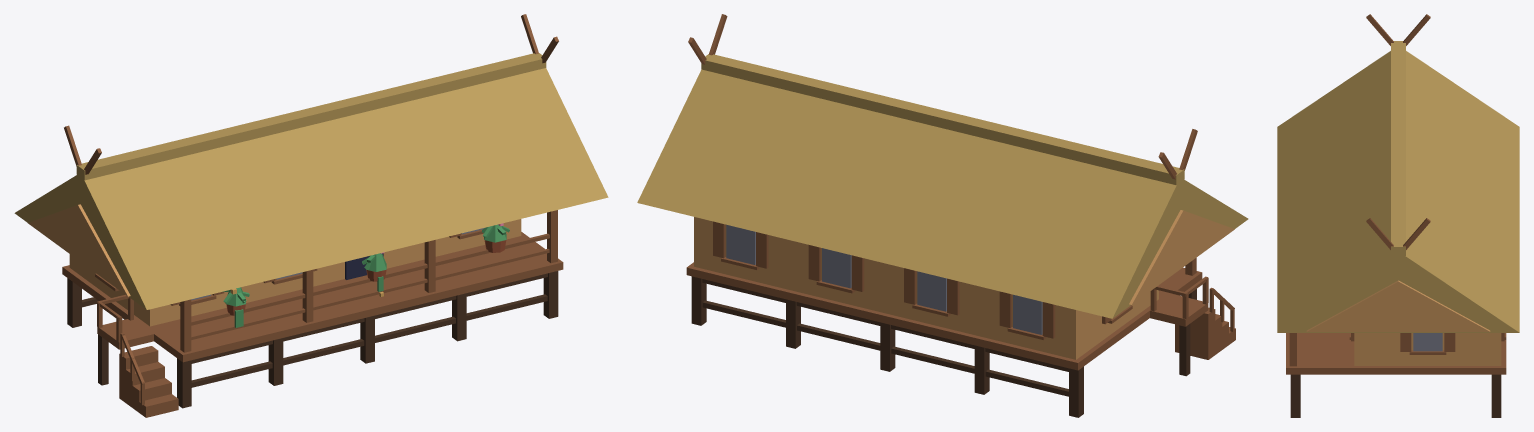
Rendered from house-2x1-1f-stilt-a.glb.
3 views of the same model, side by side, from view 1: azimuth 30°, elevation 25°; view 2: azimuth 150°, elevation 25°; view 3: azimuth 270°, elevation 25° (orthographic). The views are drawn at different scales.
Parts seen in each view (by area): view 1: house-2x1-1f-stilt-a; view 2: house-2x1-1f-stilt-a; view 3: house-2x1-1f-stilt-a.
Boxes of the visible parts, box(x1,y1,x2,y2) form: house-2x1-1f-stilt-a: box(14, 14, 608, 417); house-2x1-1f-stilt-a: box(637, 14, 1248, 417); house-2x1-1f-stilt-a: box(1277, 14, 1519, 417).
Bounding box in the file's own units: 2.01 × 0.9803 × 0.99.
Materials: 1 (1 with a texture image).
